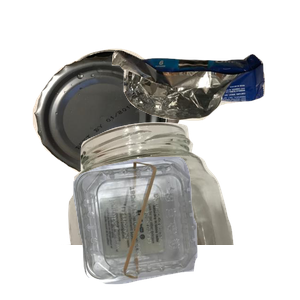glass: (61, 120, 287, 300)
metal: (30, 46, 205, 215)
plastic: (71, 154, 300, 300)
trash: (109, 47, 300, 160)
